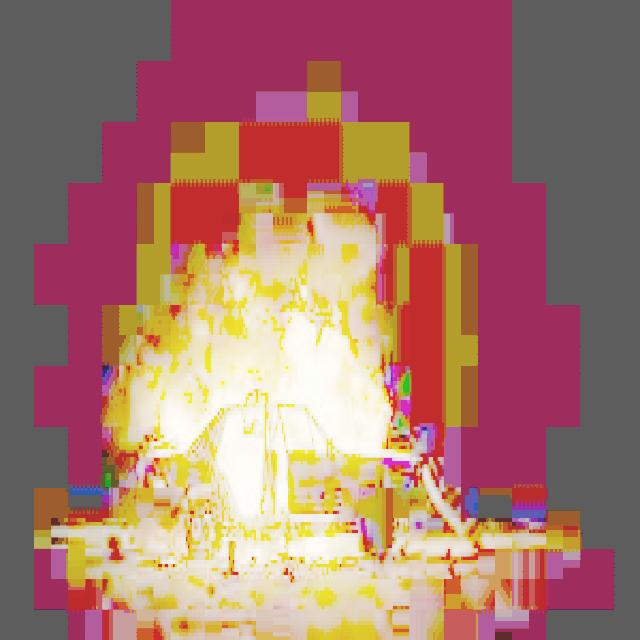api: (159, 291, 402, 546)
